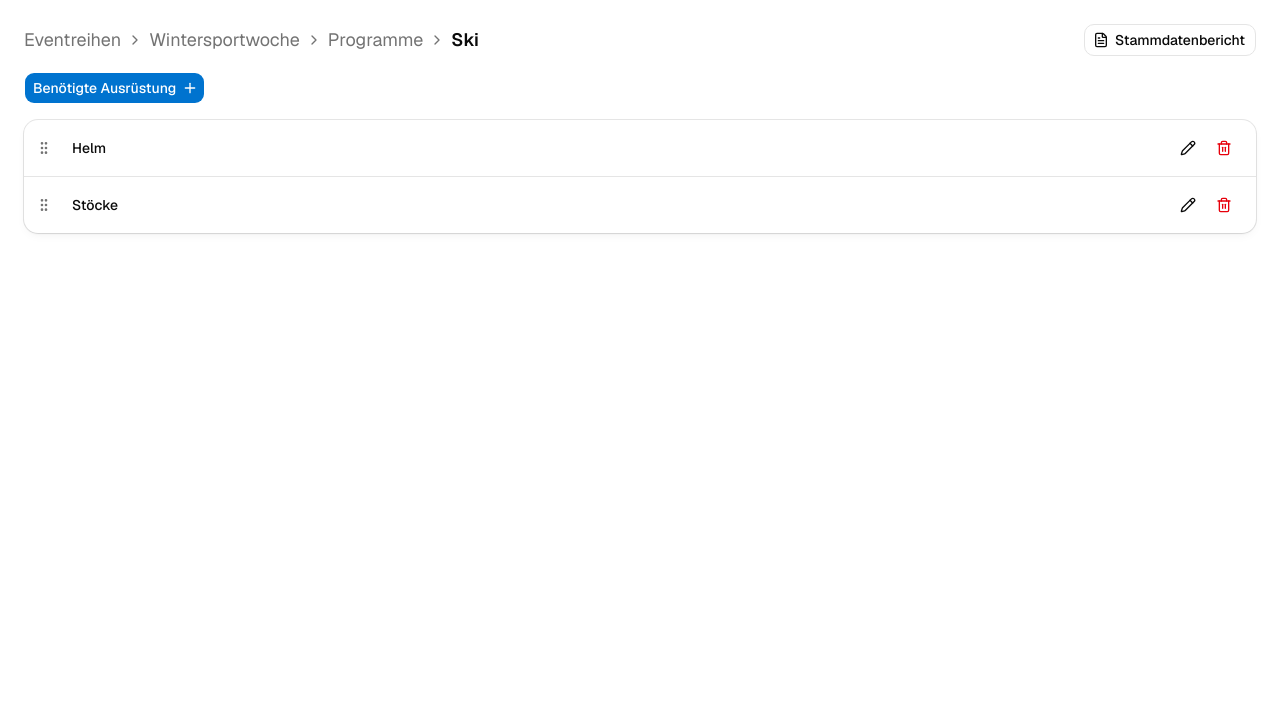
Scenario: ProgramEquipmentView › warns that removing an entry cannot be undone
Click the button named "Ausrüstungsgegenstand Helm löschen": {"x": 1224, "y": 148} [1208, 132, 1240, 164]
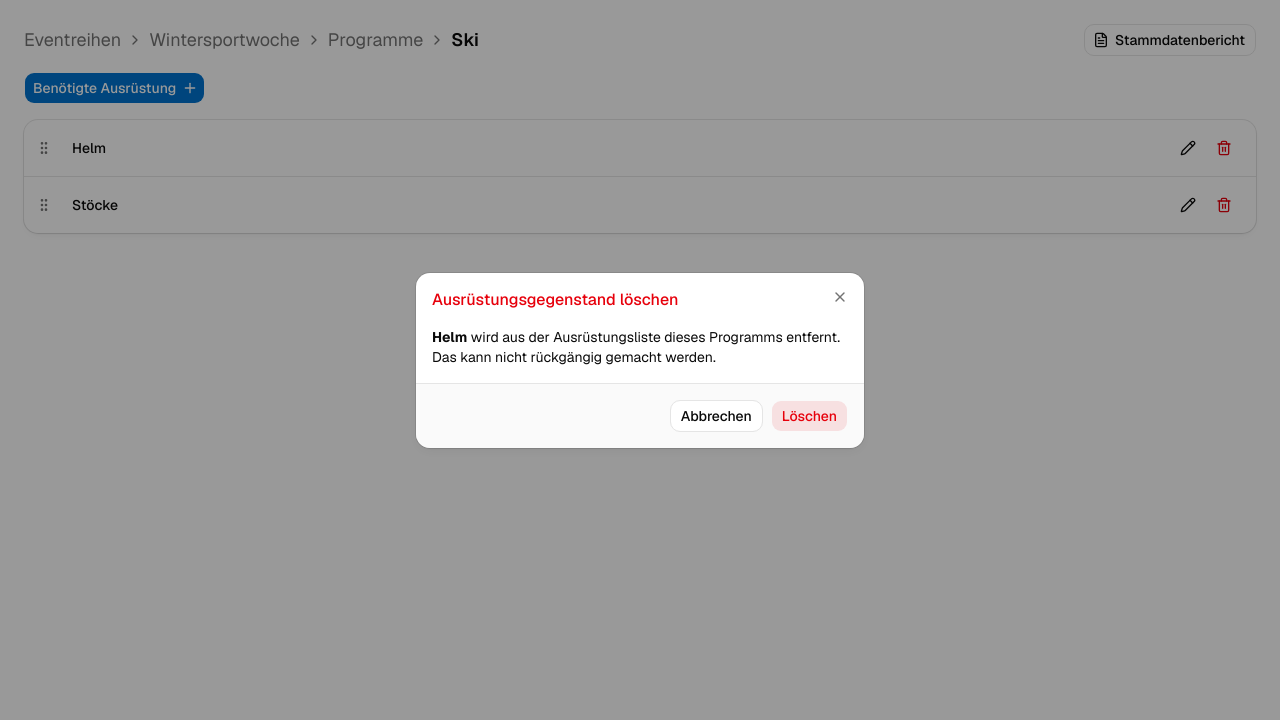
Now the dialog shows "Das kann nicht rückgängig gemacht werden.", box [432, 348, 716, 366]
